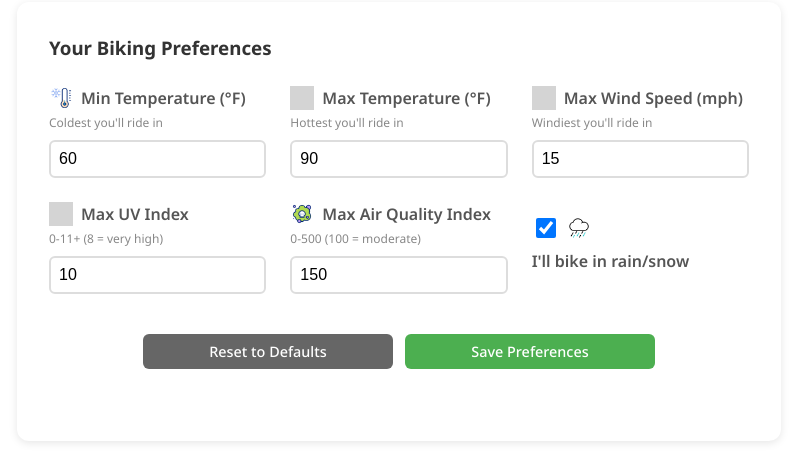
Test: BikePreferencesForm › Preference Storage › resets saved state when reset to defaults is clicked
The width and height of the screenshot is (799, 461).
Save preferences
Step 1. Click the button "Save Preferences" → (530, 352), box [405, 334, 655, 369]
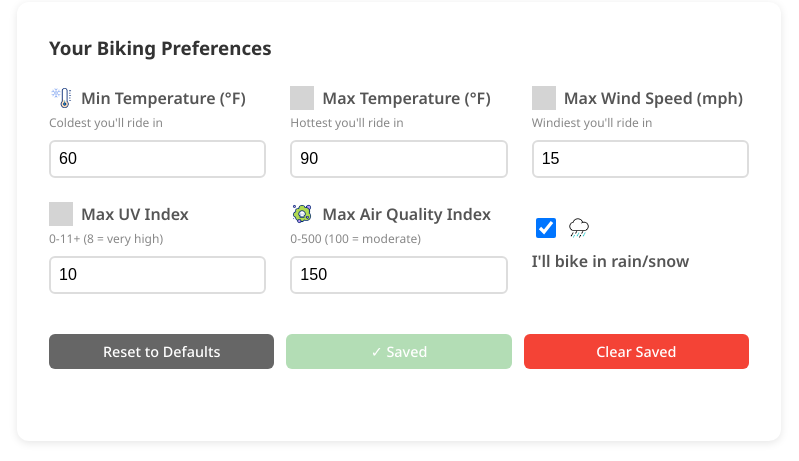
Reset to defaults
Step 2. Click the button "Reset to Defaults" → (162, 352), box [49, 334, 274, 369]
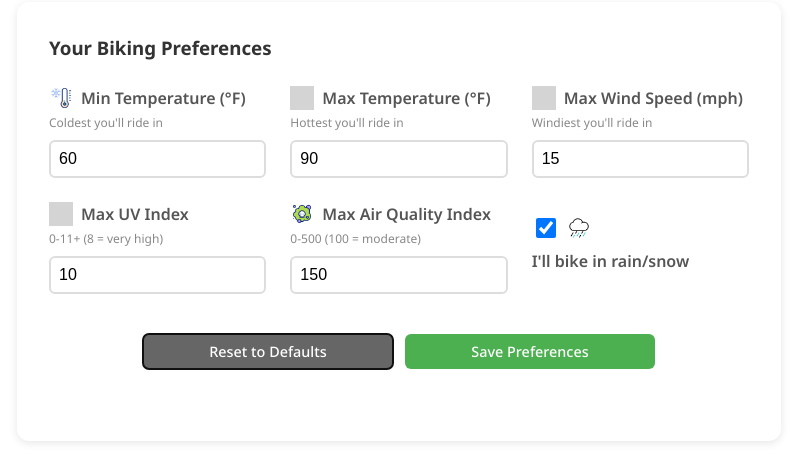
Result: the button "Save Preferences" is shown at [405, 334, 655, 369]
Result: the button "✓ Saved" is gone
